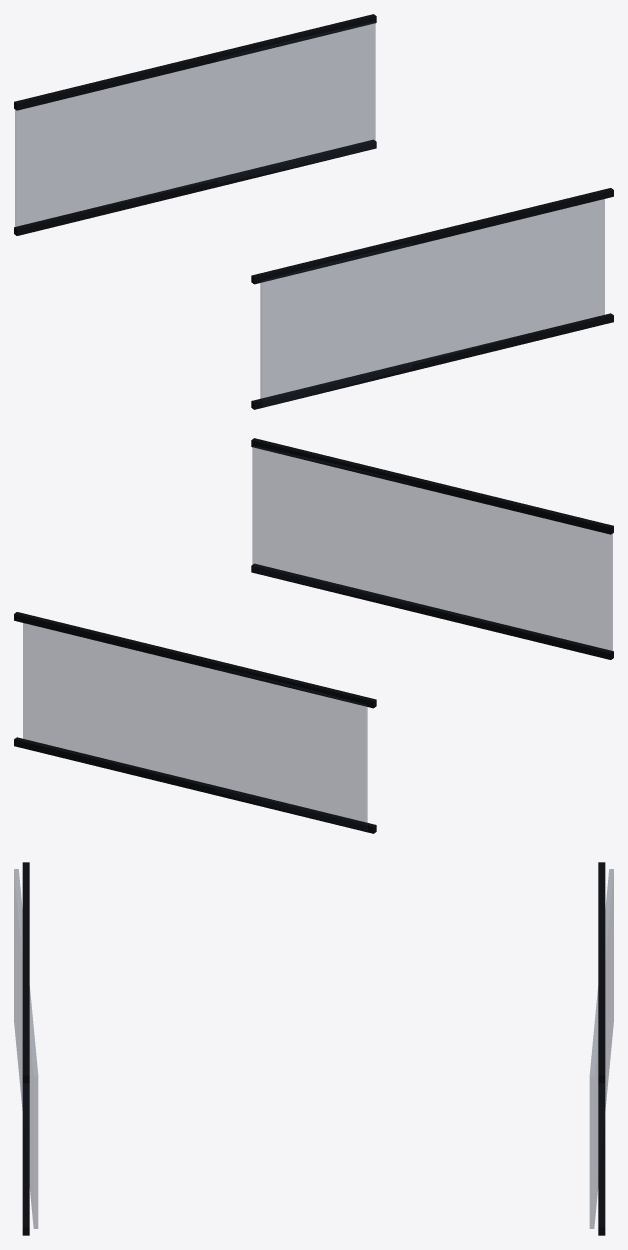
Rendered from side_glass.glb.
3 views of the same model, one above another, from view 1: azimuth 30°, elevation 25°; view 2: azimuth 150°, elevation 25°; view 3: azimuth 270°, elevation 25° (orthographic). The views are drawn at different scales.
Visible parts, largest first — view 1: Side_Glass_Assembly; view 2: Side_Glass_Assembly; view 3: Side_Glass_Assembly.
Boxes of the visible parts, <box> form: Side_Glass_Assembly: <box>14,14,613,409</box>; Side_Glass_Assembly: <box>14,438,613,833</box>; Side_Glass_Assembly: <box>14,862,613,1235</box>.
Bounding box in the file's own units: 0.84 × 0.295 × 1.
